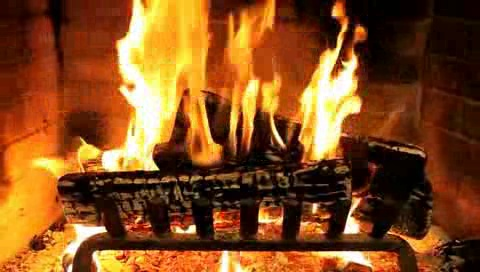fire: (102, 4, 370, 173)
